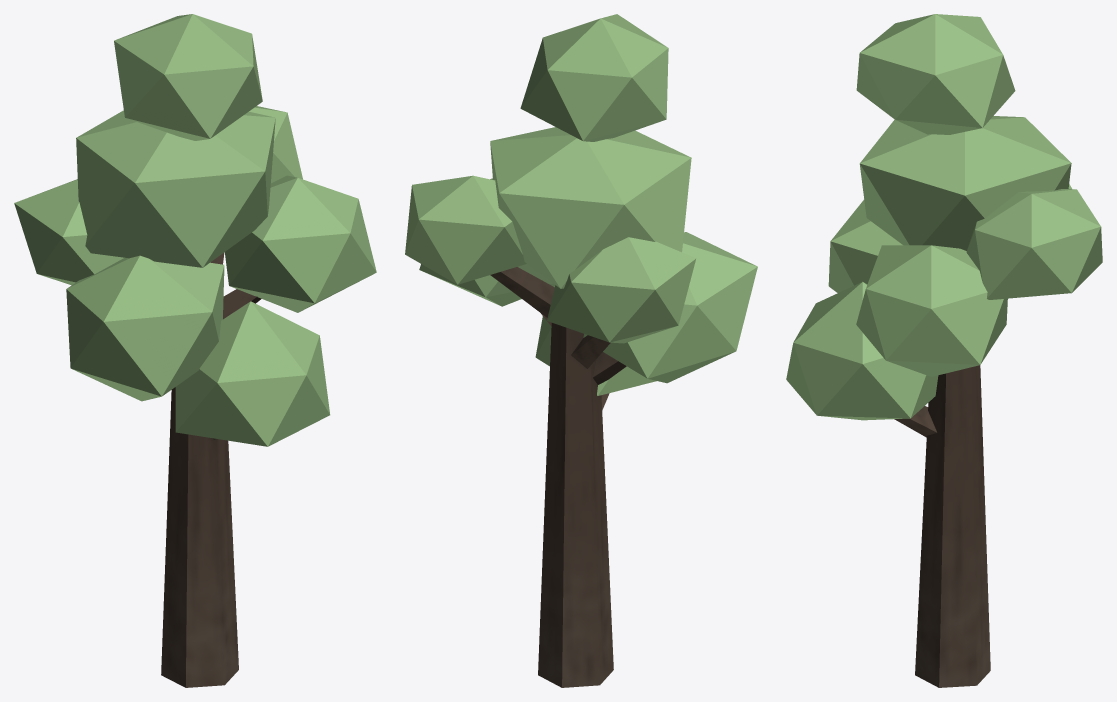
File: arv_carvalho_5.glb
3 renders of one model, left to right at view 1: azimuth 30°, elevation 25°; view 2: azimuth 150°, elevation 25°; view 3: azimuth 270°, elevation 25°, orthographic. The views are drawn at different scales.
Visible parts, largest first — view 1: arv_carvalho_5; view 2: arv_carvalho_5; view 3: arv_carvalho_5.
Part boxes in pixels (x1,y1,x2,y2): arv_carvalho_5: (14, 14, 376, 687); arv_carvalho_5: (405, 14, 757, 687); arv_carvalho_5: (786, 14, 1102, 687).
Bounding box in the file's own units: 0.8631 × 1.87 × 0.8251.
2 materials, 1 textured.
